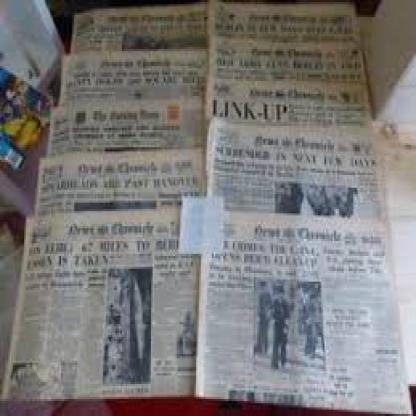paper: (192, 209, 410, 414), (0, 200, 195, 397), (204, 113, 385, 222), (35, 147, 204, 207), (45, 94, 204, 147), (206, 74, 370, 120), (206, 32, 364, 77), (56, 51, 204, 94), (69, 2, 204, 49), (206, 0, 356, 34), (177, 192, 223, 250)
